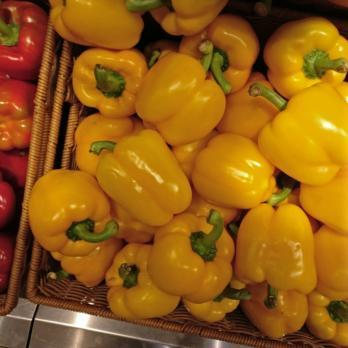Capsicum: (58, 2, 348, 319), (32, 162, 117, 259)
